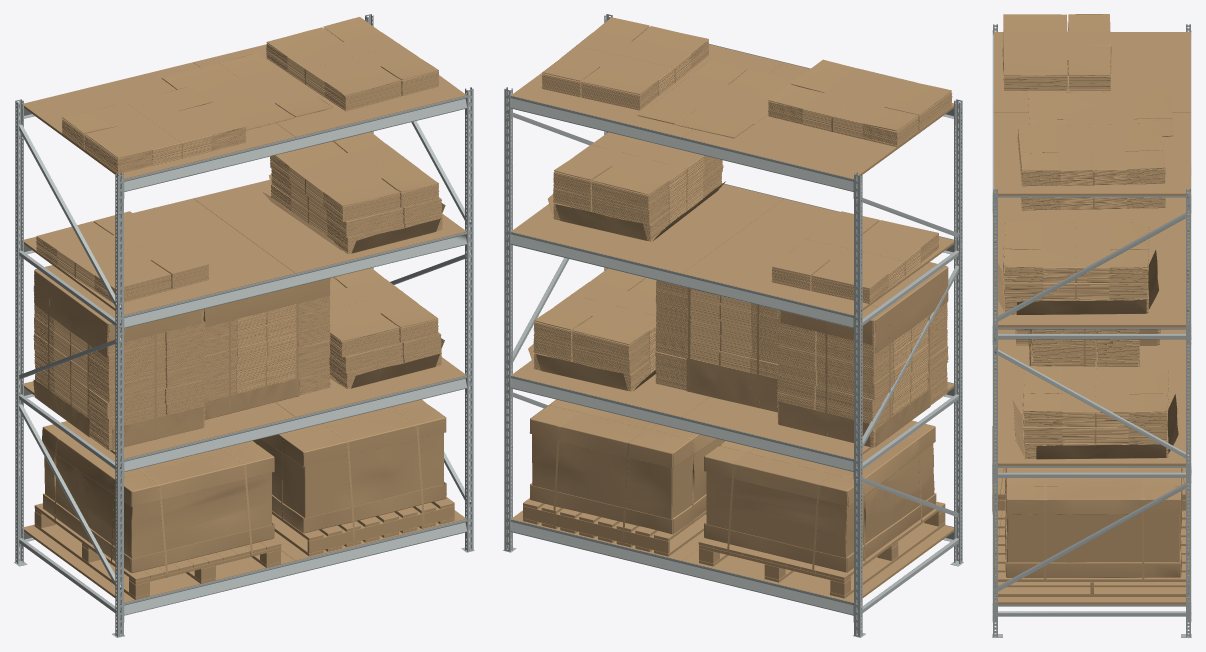
The model's file is rack_composition_a08.glb.
3 views of the same model, side by side, from view 1: azimuth 30°, elevation 25°; view 2: azimuth 150°, elevation 25°; view 3: azimuth 270°, elevation 25° (orthographic). The views are drawn at different scales.
Bounding box in the file's own units: 2.45 × 3.11 × 1.23.
